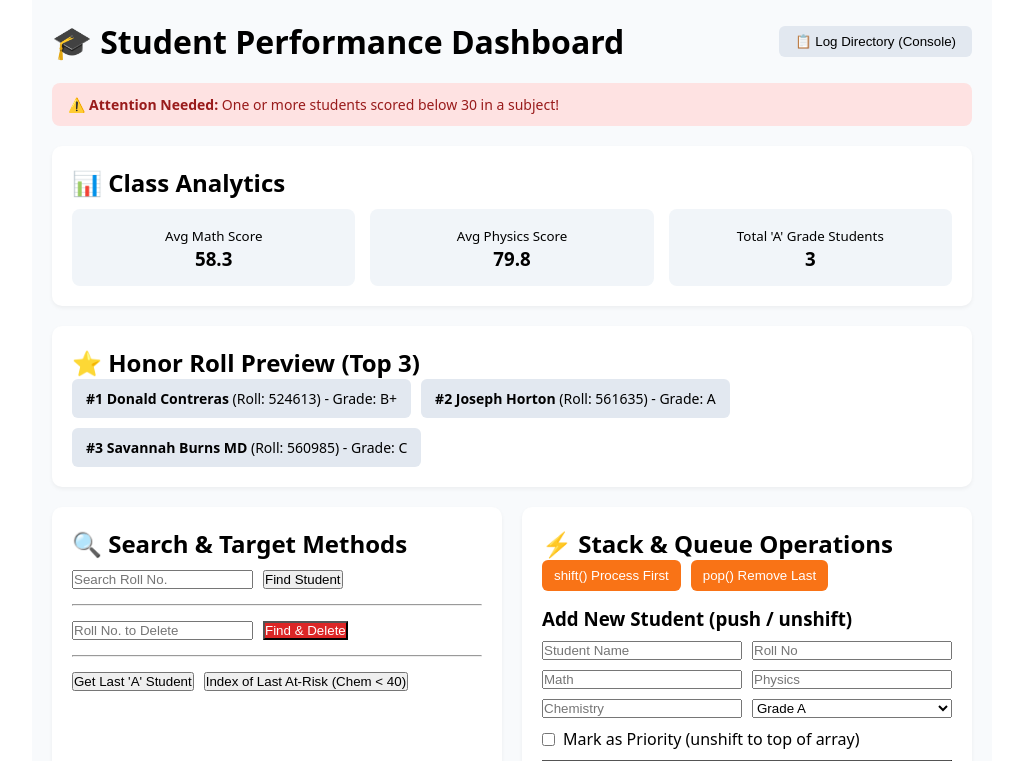
Test: StudentDashboard Component › Student search (find / findLast) › should find a student by roll number
The image size is (1024, 761).
Type "561635" into the number field with placeholder "Search Roll No.".
click(162, 580); type("561635")  # box [72,570,253,589]
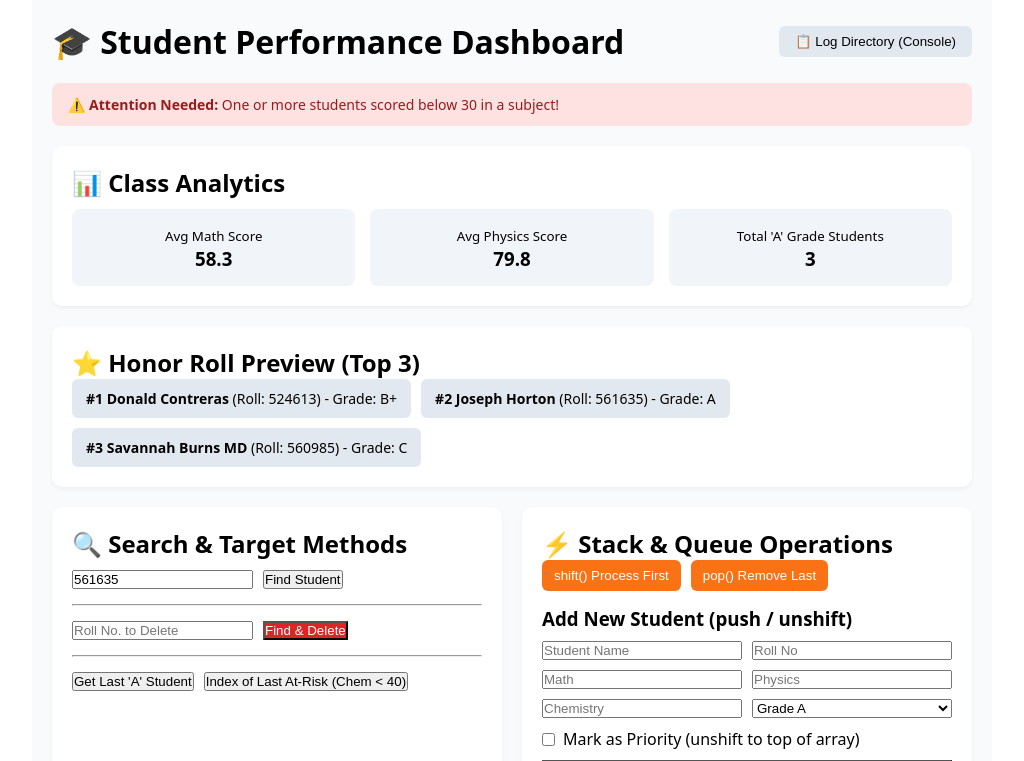
Click the button "Find Student".
click(303, 580)  # box [263,570,343,589]
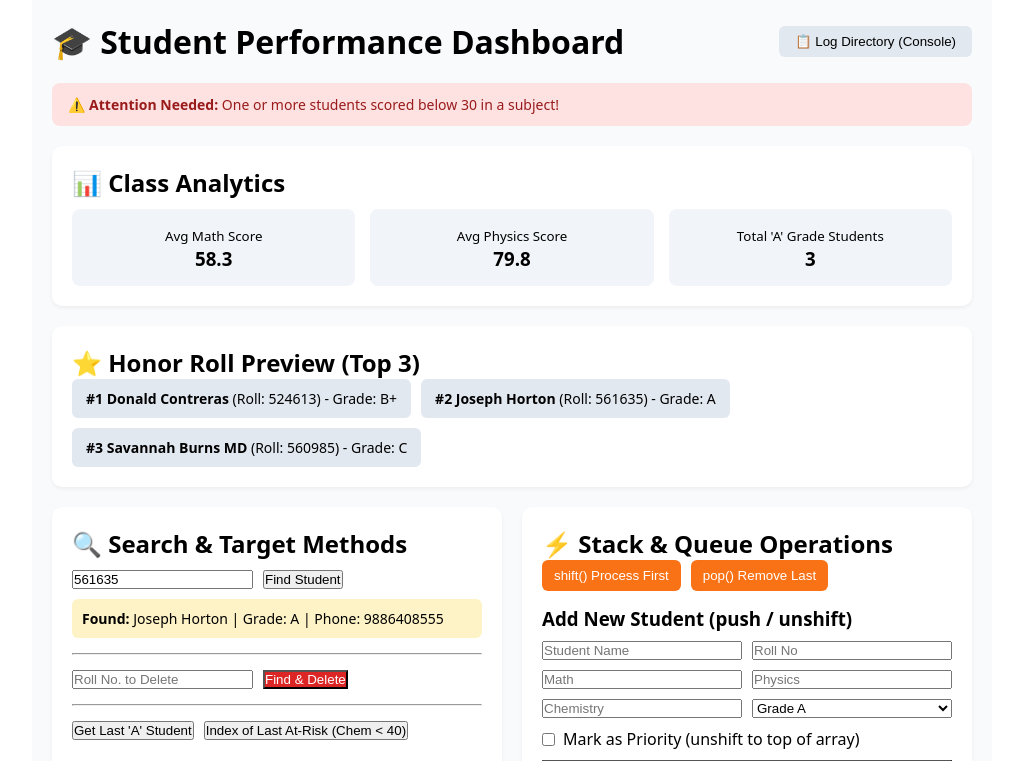
Expected: the text "Found: Joseph Horton | Grade: A | Phone: 9886408555" is shown, [72,599,482,638]
